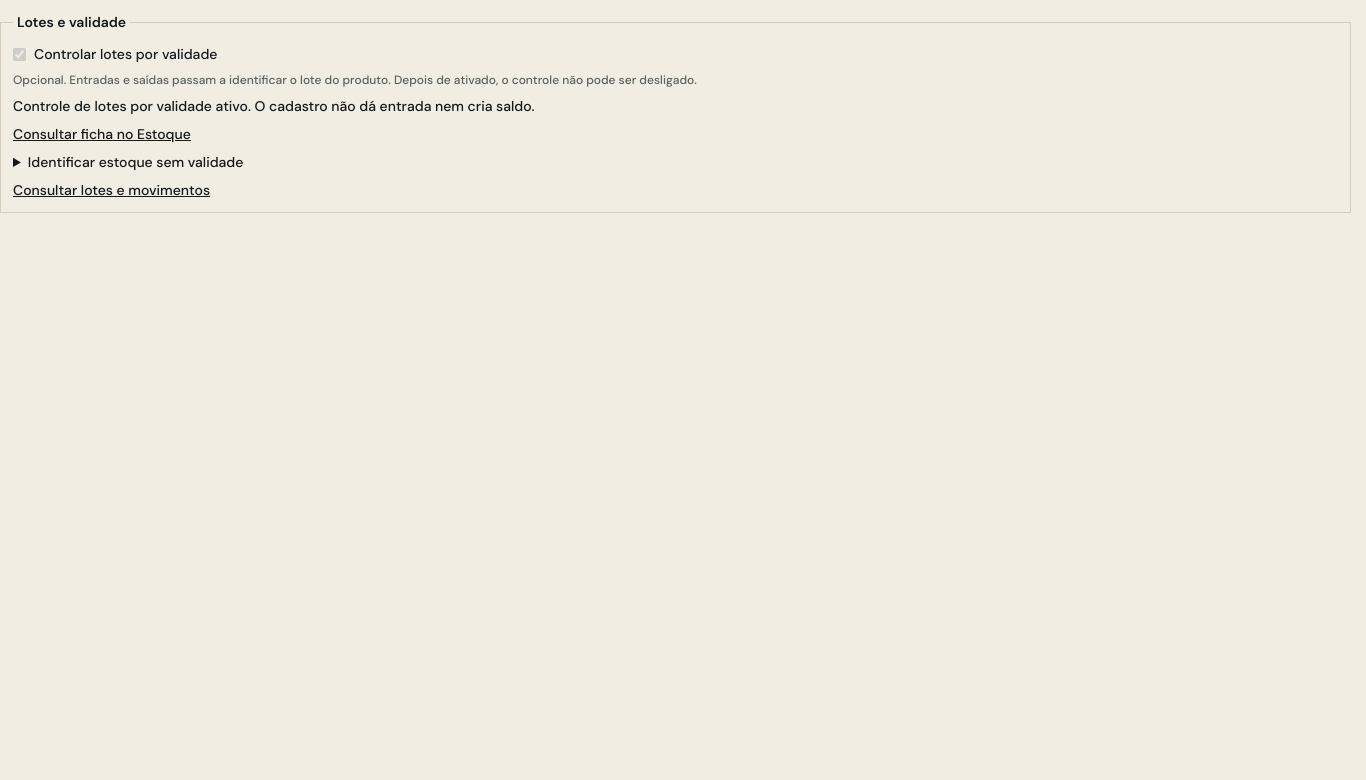
controle de lotes por validade › identificação fica nas opções avançadas apenas com saldo desconhecido positivo
Click the heading "Identificar estoque sem validade".
click(136, 162)  # box top-left (28, 153), bottom-right (243, 171)
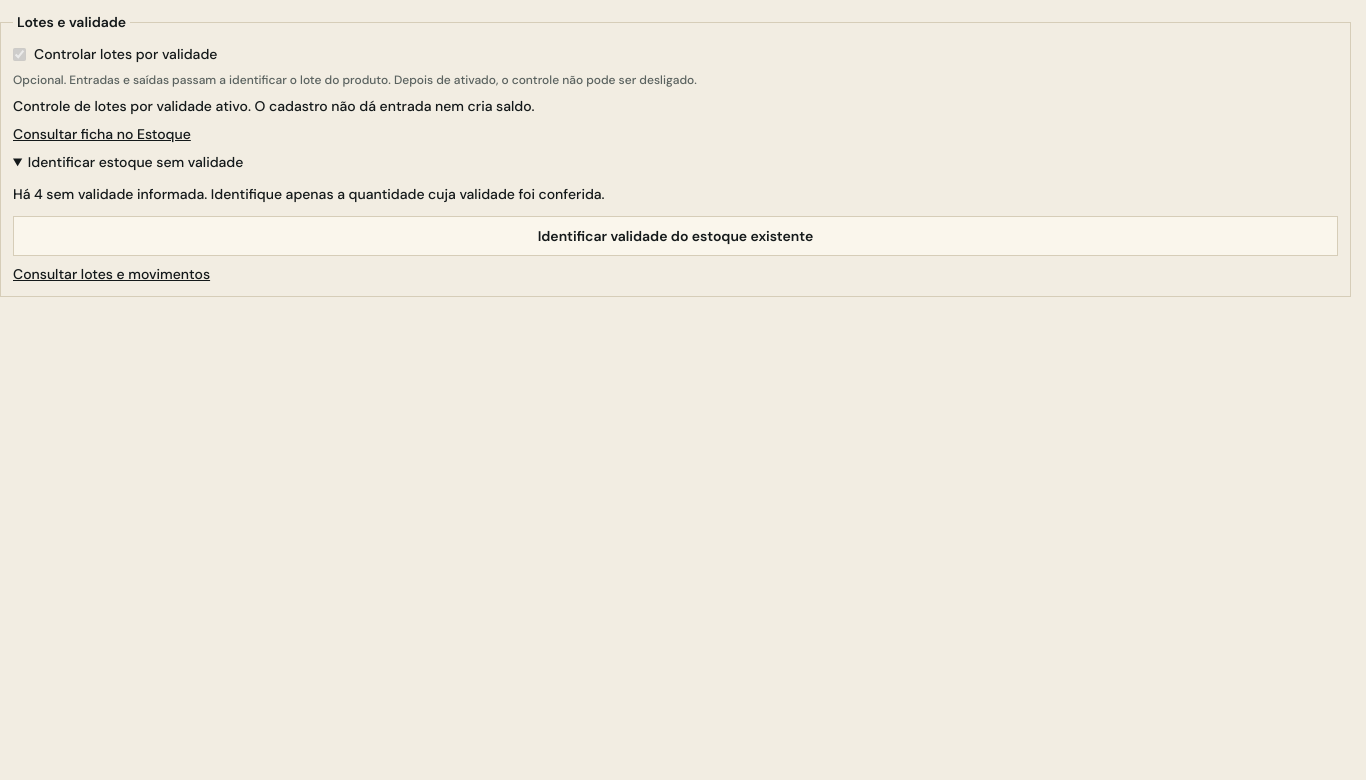
Click the button "Identificar validade do estoque existente".
click(676, 236)  # box top-left (13, 216), bottom-right (1338, 256)
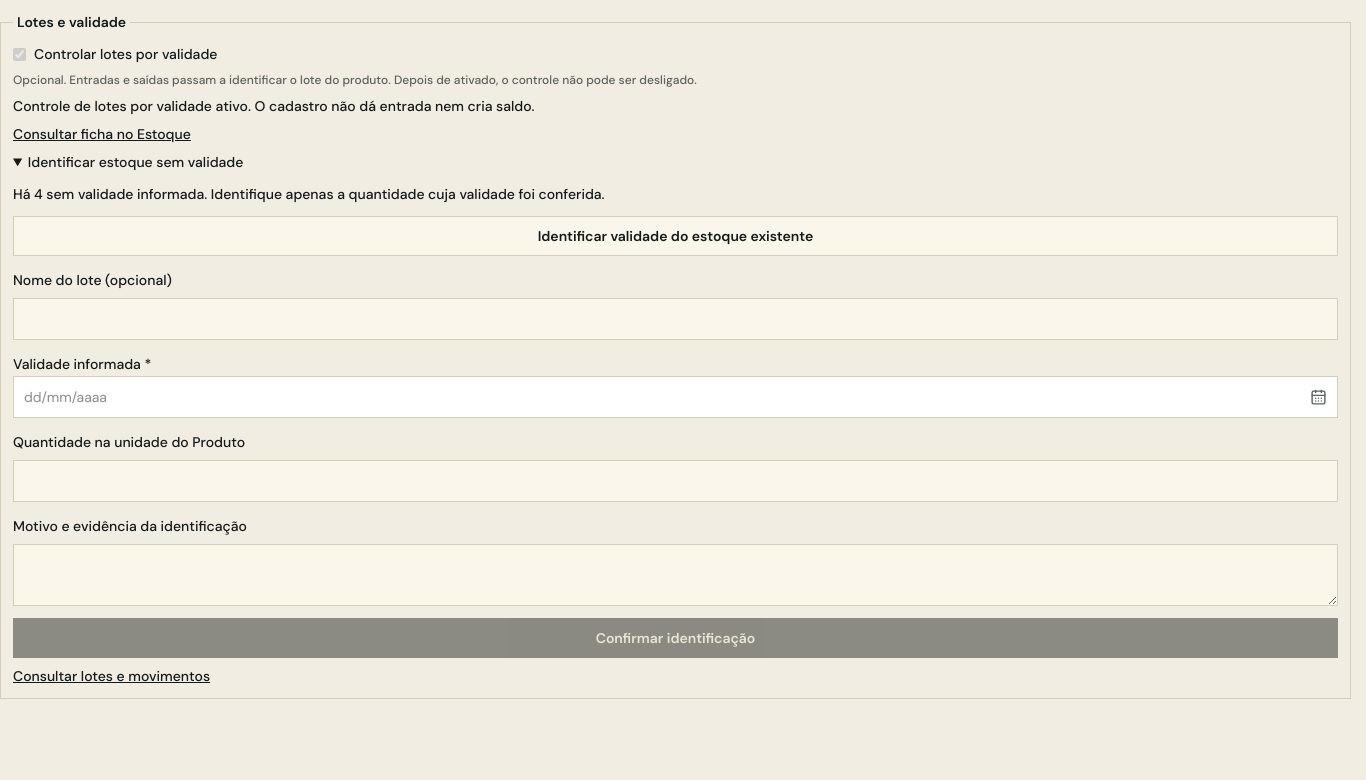
Result: the field labelled "Nome do lote (opcional)" is shown at top-left (13, 298), bottom-right (1338, 340)
